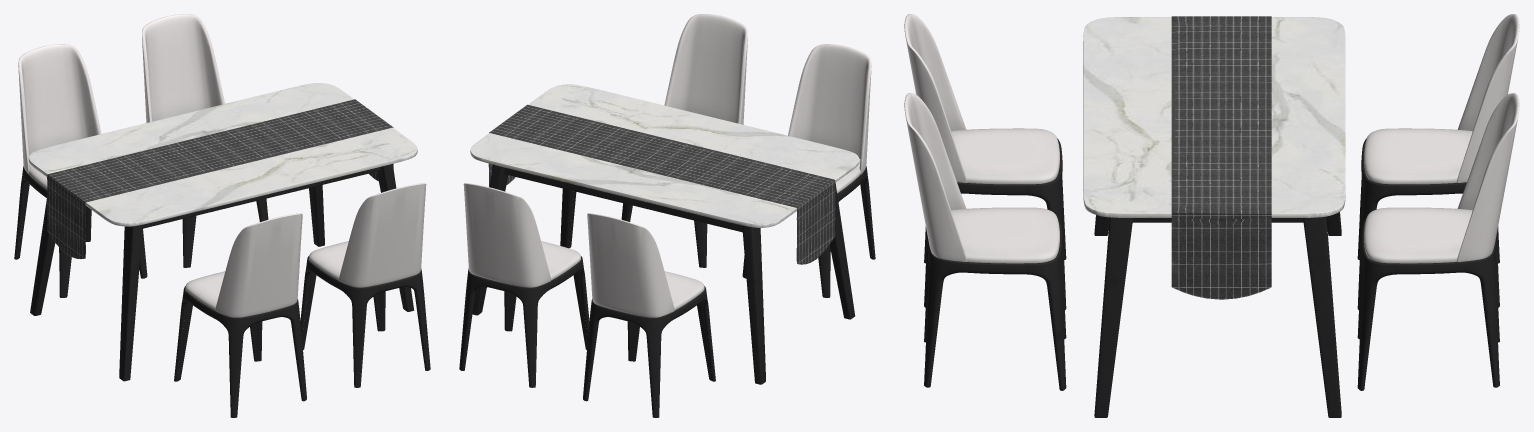
File: diningtable-1.glb
3 renders of one model, left to right at view 1: azimuth 30°, elevation 25°; view 2: azimuth 150°, elevation 25°; view 3: azimuth 270°, elevation 25°, orthographic. The views are drawn at different scales.
Parts seen in each view (by area): view 1: zhuoyi_6, bu_8; view 2: zhuoyi_6, bu_8; view 3: zhuoyi_6, bu_8.
Part boxes in pixels (x1,y1,x2,y2): zhuoyi_6: [14, 14, 430, 417]; bu_8: [47, 99, 393, 258]; zhuoyi_6: [459, 14, 875, 417]; bu_8: [488, 104, 835, 264]; zhuoyi_6: [904, 14, 1519, 417]; bu_8: [1171, 16, 1271, 299].
Size of the model in its own units: 13.13 by 8.01 by 17.27.
2 materials, 2 textured.
